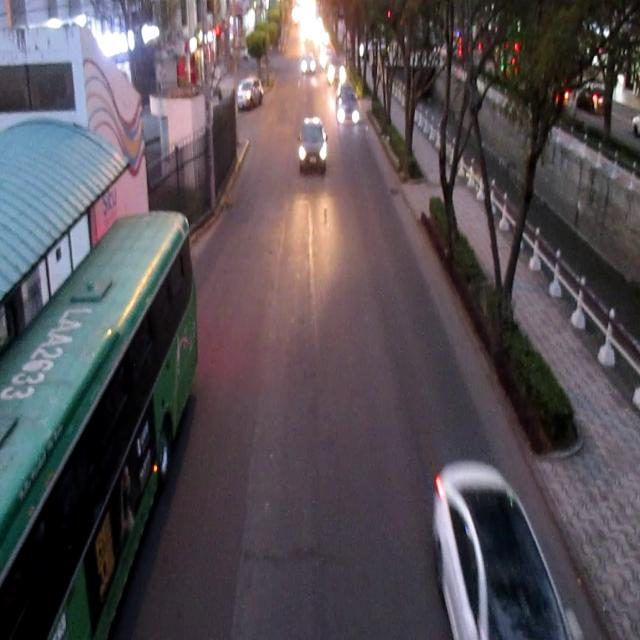BUS: (3, 215, 200, 640)
SUV: (238, 80, 262, 110)
